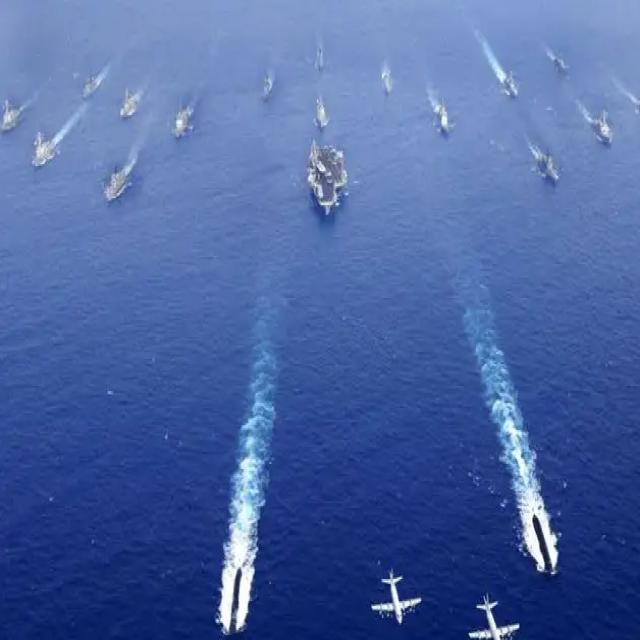navalvessels: (305, 133, 351, 215), (101, 144, 141, 212), (587, 112, 628, 153), (530, 138, 560, 190), (535, 44, 573, 80), (29, 122, 56, 170), (117, 84, 143, 125), (502, 55, 524, 99), (81, 58, 102, 103), (168, 96, 192, 135), (431, 93, 449, 140), (307, 98, 331, 125)
